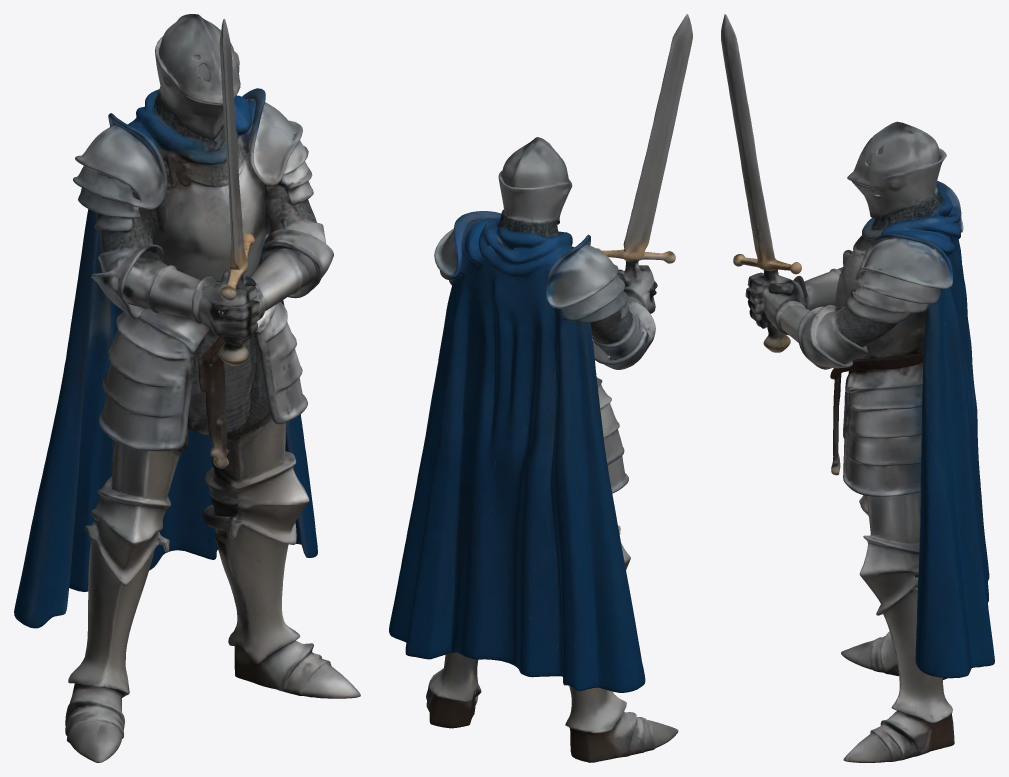
The model's file is knight.glb.
3 renders of one model, left to right at view 1: azimuth 30°, elevation 25°; view 2: azimuth 150°, elevation 25°; view 3: azimuth 270°, elevation 25°, orthographic. The views are drawn at different scales.
Size of the model in its own units: 0.3914 by 1 by 0.3745.
Materials: 1 (1 with a texture image).
